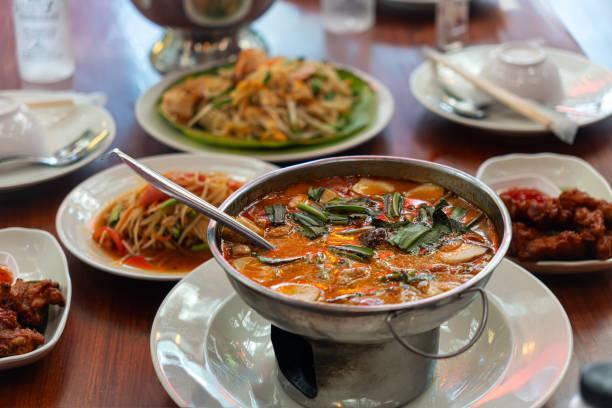Braised Crucian Carp: (151, 248, 571, 404), (55, 151, 280, 279), (138, 60, 389, 162)
